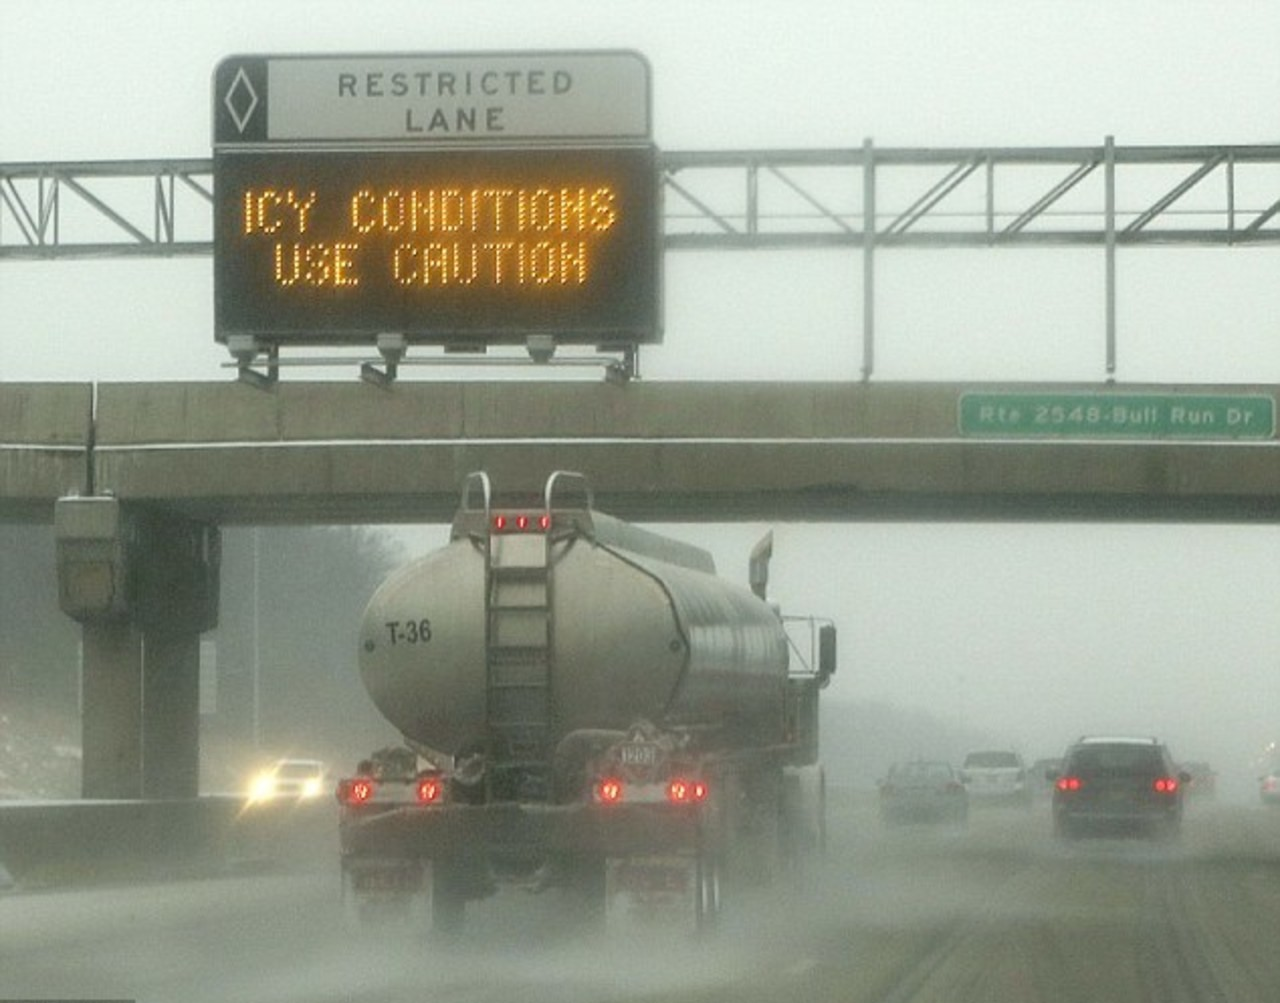car: (1044, 737, 1195, 843), (879, 759, 969, 830), (960, 747, 1026, 801), (255, 756, 328, 803), (1177, 754, 1217, 798)
truck: (341, 474, 836, 950)
